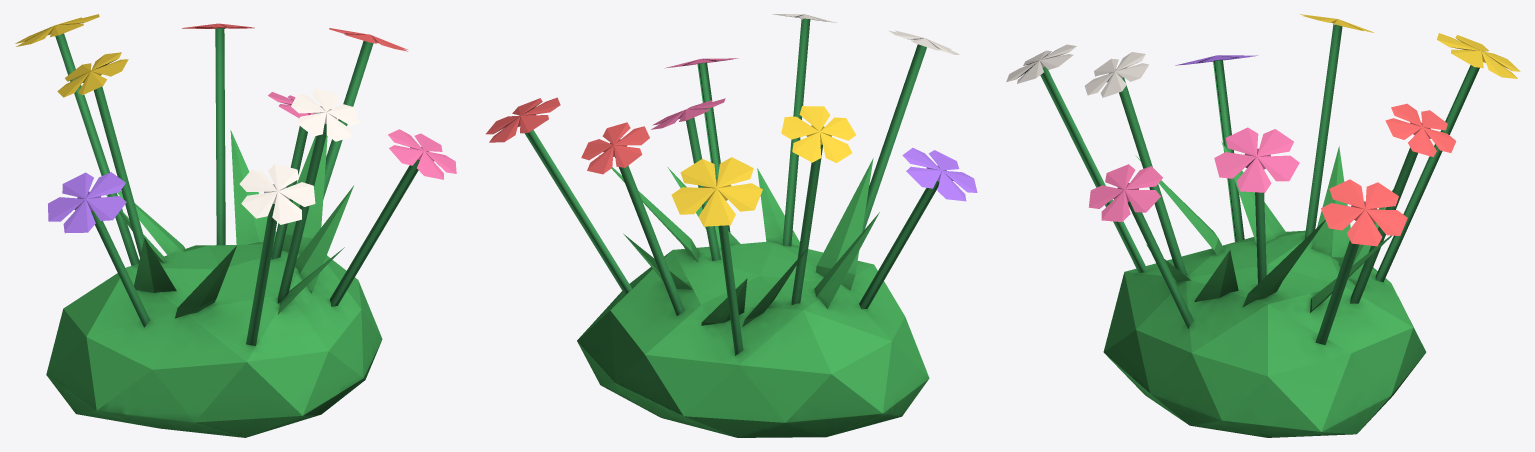
The model's file is wildflowers.glb.
The picture shows the model from 3 angles, left to right: view 1: azimuth 30°, elevation 25°; view 2: azimuth 150°, elevation 25°; view 3: azimuth 270°, elevation 25°; orthographic projection. The views are drawn at different scales.
Parts seen in each view (by area): view 1: wildflowers; view 2: wildflowers; view 3: wildflowers.
Boxes of the visible parts, <box> form: wildflowers: <box>15,14,456,437</box>; wildflowers: <box>486,14,977,437</box>; wildflowers: <box>1006,14,1520,437</box>.
Bounding box in the file's own units: 0.4904 × 0.3742 × 0.513.
Materials: 7 (7 with a texture image).
